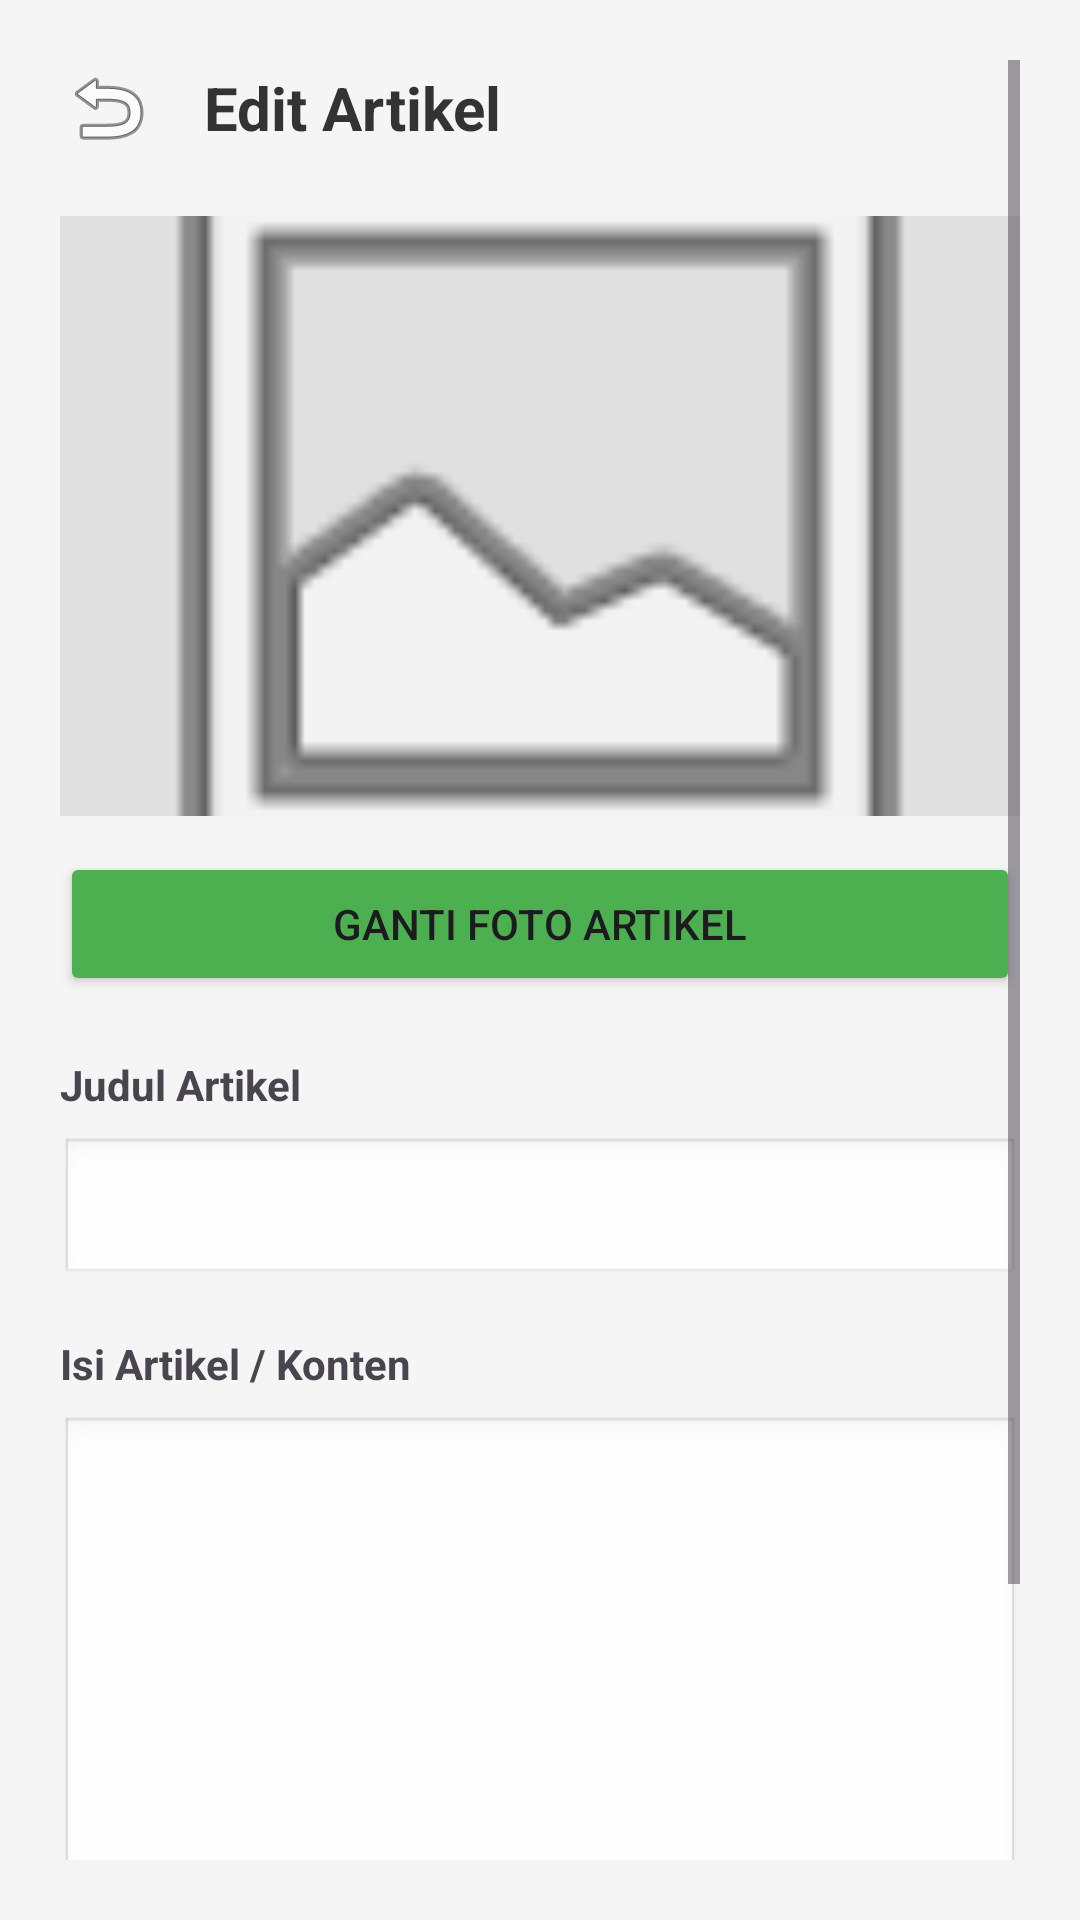

Named icons in this screenshot (1080x1920) and their bounding boxes, {"x1": x1, "y1": y1, "x2": x2, "y2": y2}:
revert: {"x1": 75, "y1": 77, "x2": 144, "y2": 140}
